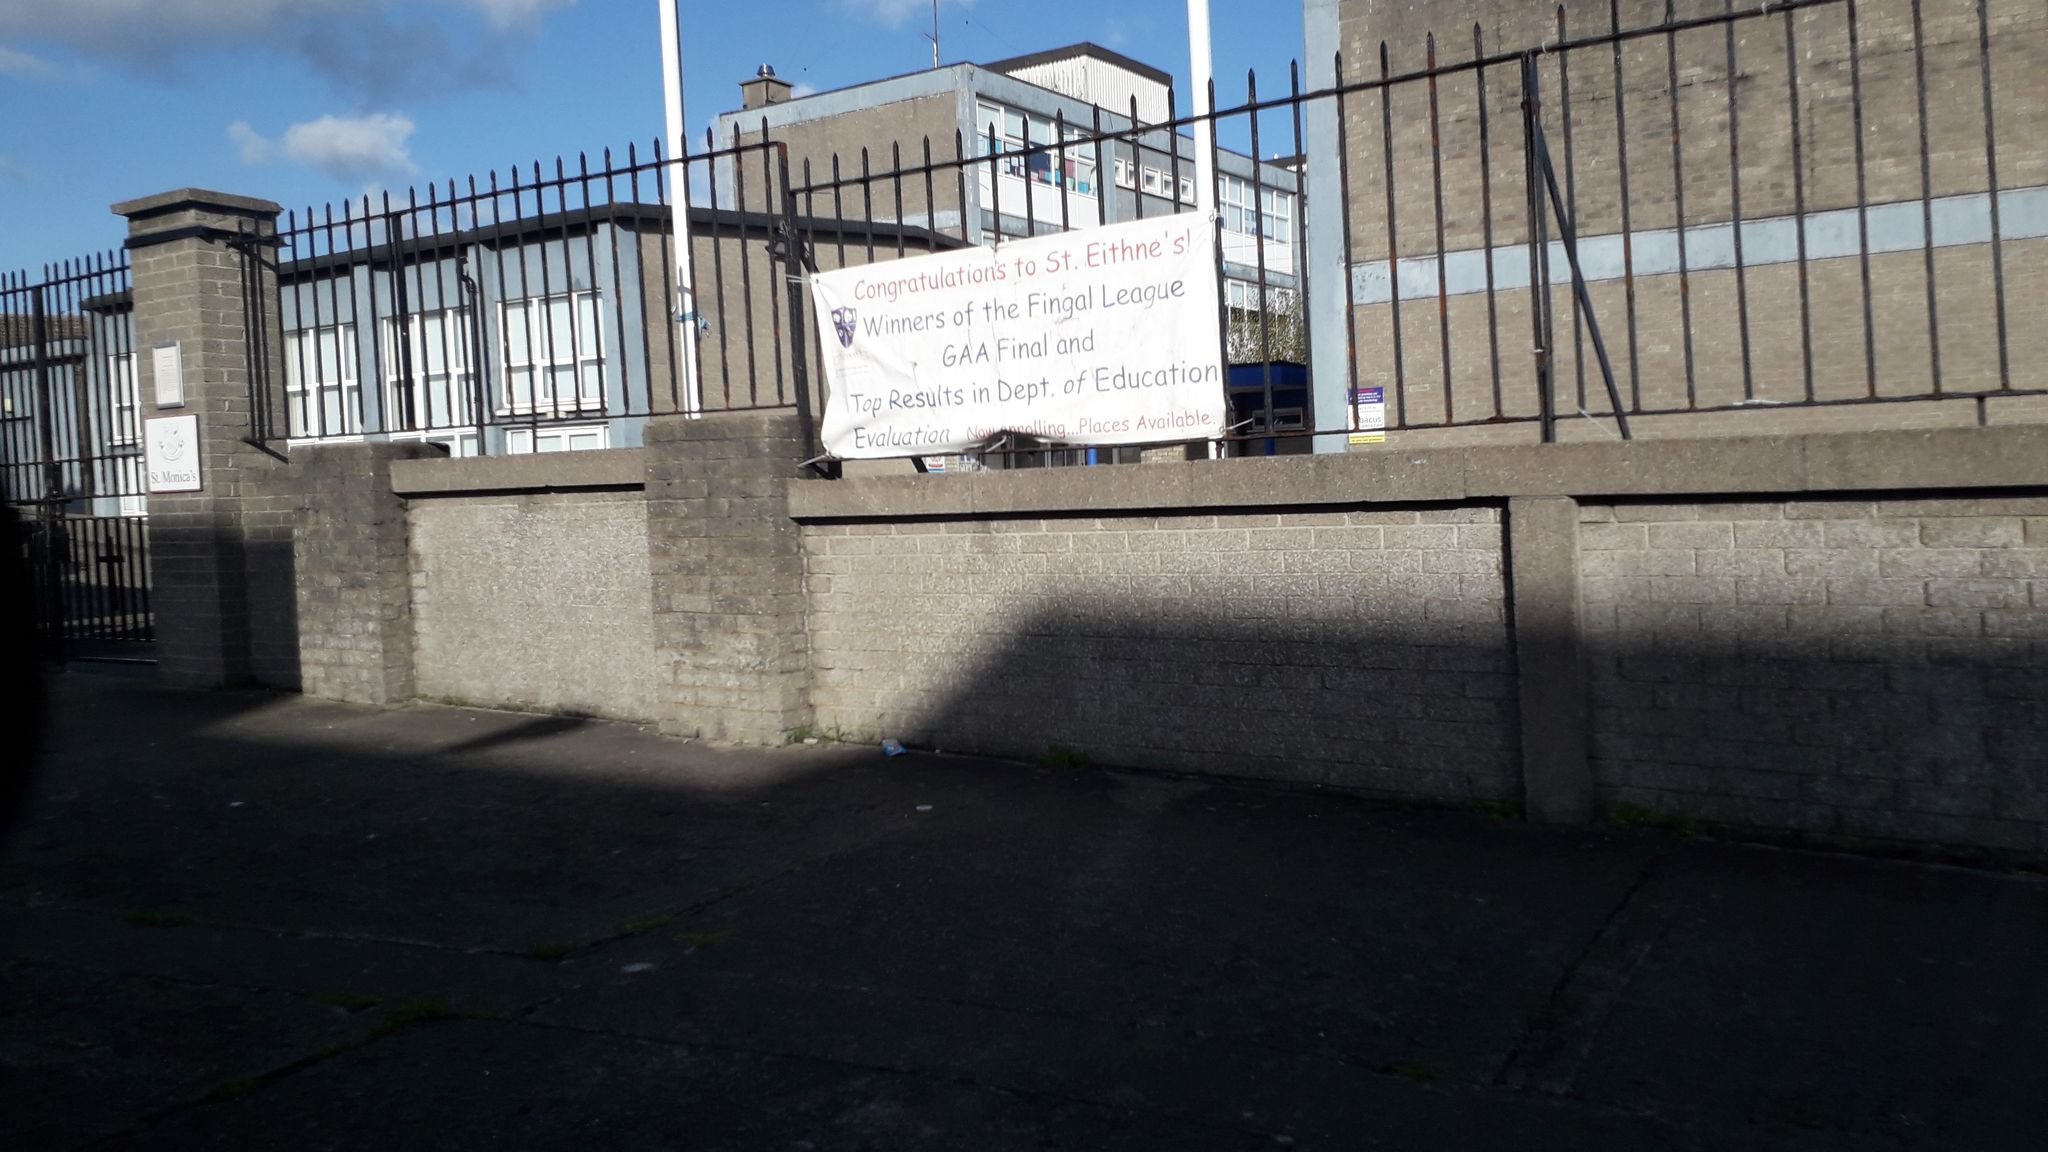vinyl banner: (793, 191, 1241, 494)
